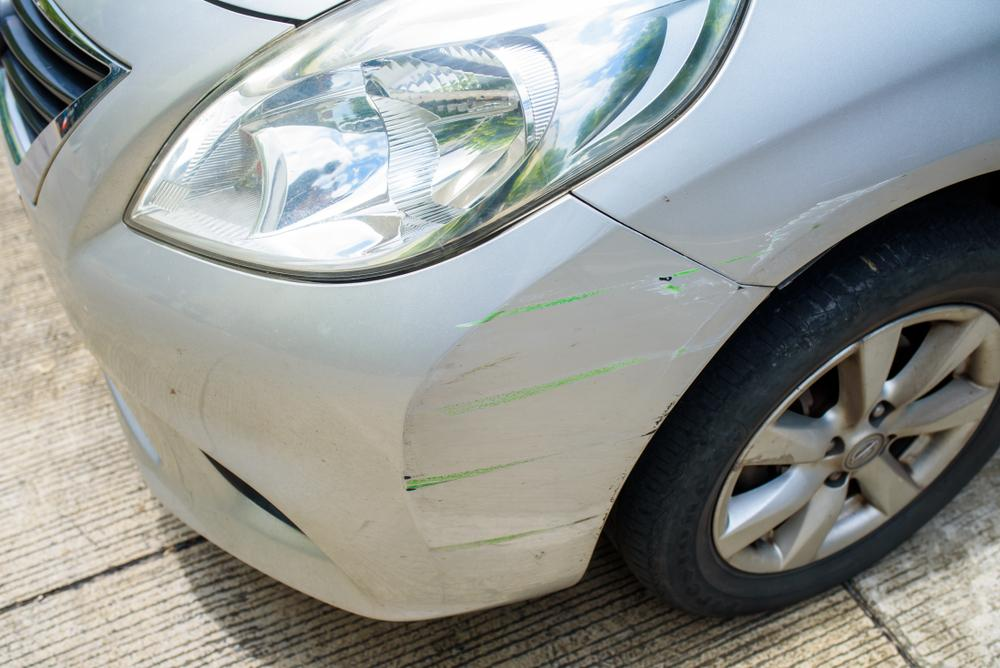scratch: (402, 264, 757, 563), (718, 170, 908, 279)
